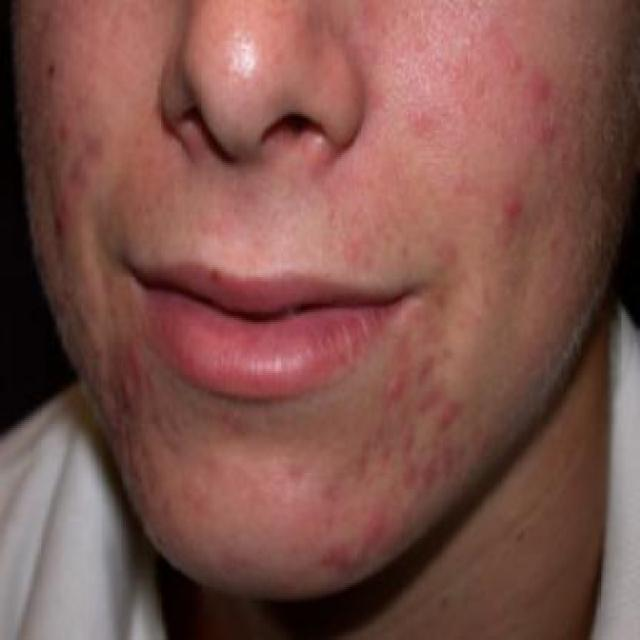nodules: (492, 216, 530, 261), (376, 369, 410, 412), (111, 338, 149, 371), (495, 188, 534, 218), (114, 373, 132, 422)
